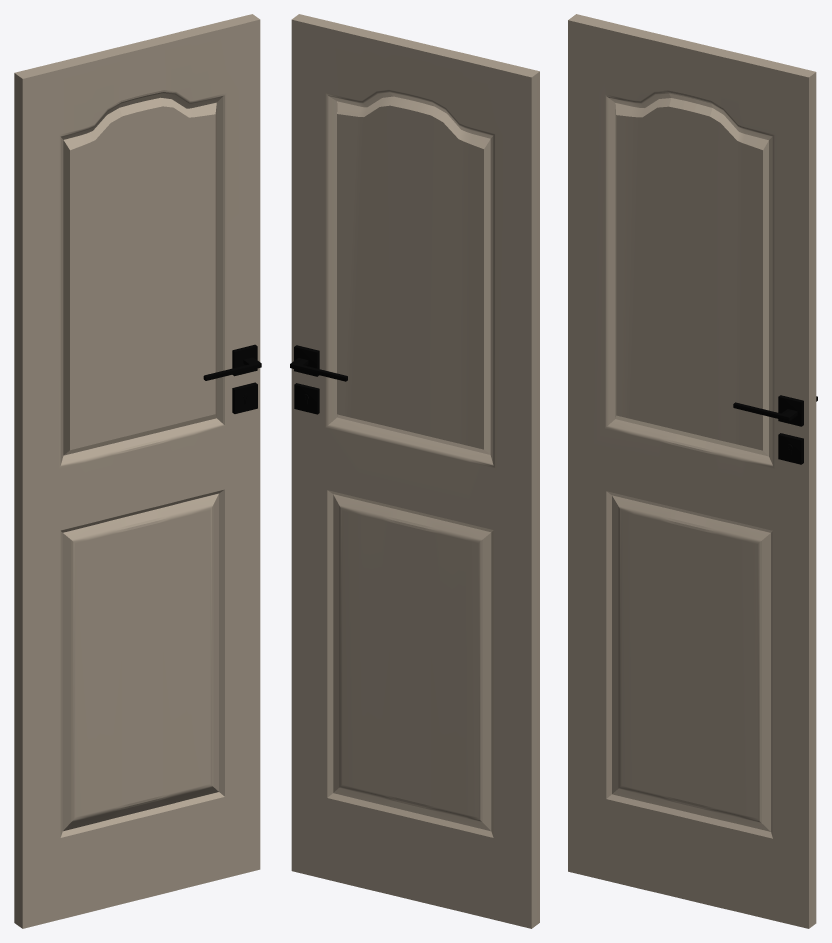
Rendered from SC_2_half_door.glb.
The picture shows the model from 3 angles, left to right: view 1: azimuth 30°, elevation 25°; view 2: azimuth 150°, elevation 25°; view 3: azimuth 330°, elevation 25°; orthographic projection.
Visible parts, largest first — view 1: SC_2__half_door_; view 2: SC_2__half_door_; view 3: SC_2__half_door_.
Boxes of the visible parts, x1,y1,x2,y2 form: SC_2__half_door_: (14, 14, 261, 928); SC_2__half_door_: (290, 14, 539, 928); SC_2__half_door_: (568, 14, 817, 928).
Bounding box in the file's own units: 0.5169 × 1.76 × 0.1075.
Materials: 1 (1 with a texture image).
